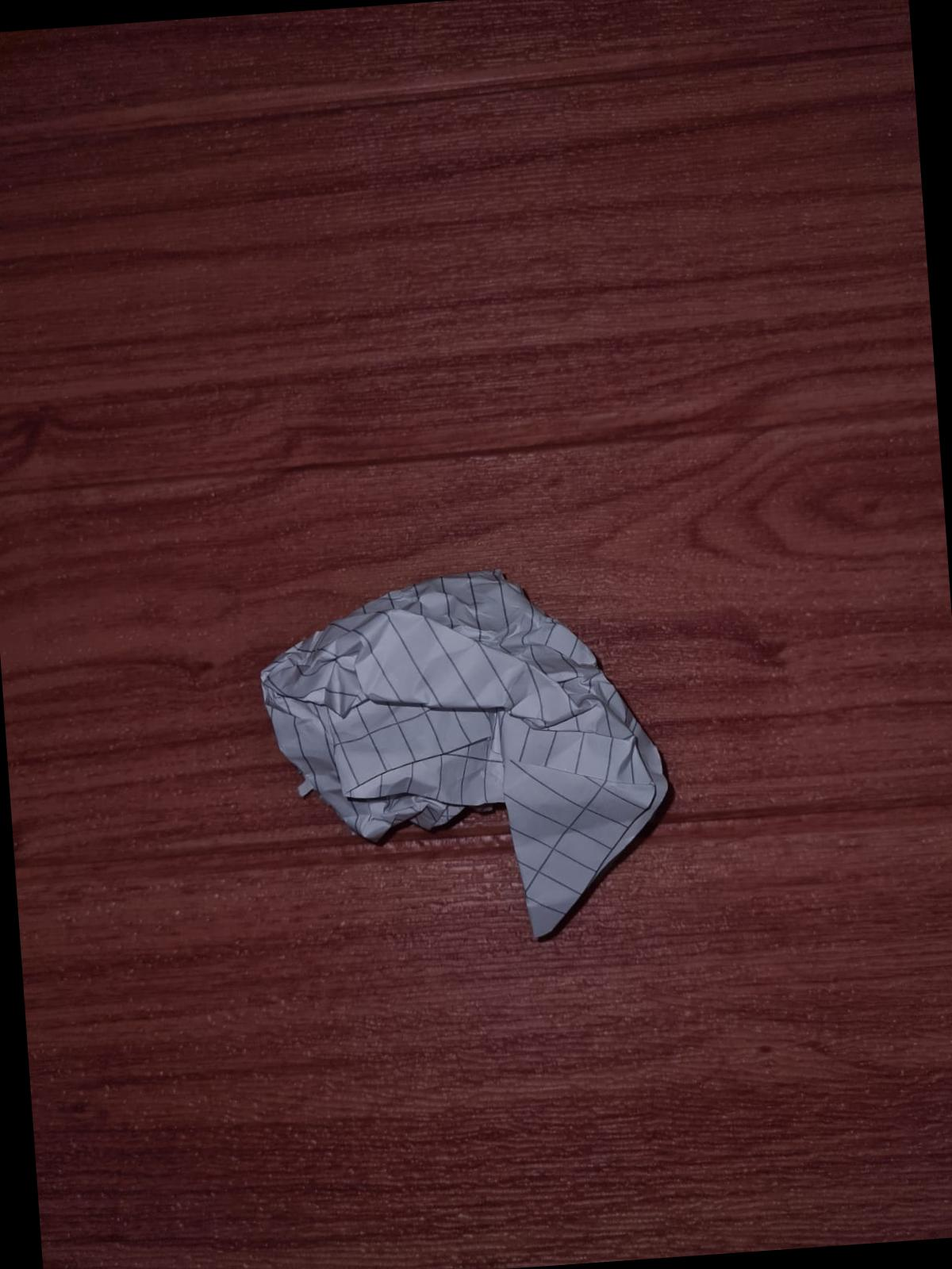Kertas: (262, 570, 668, 936)
